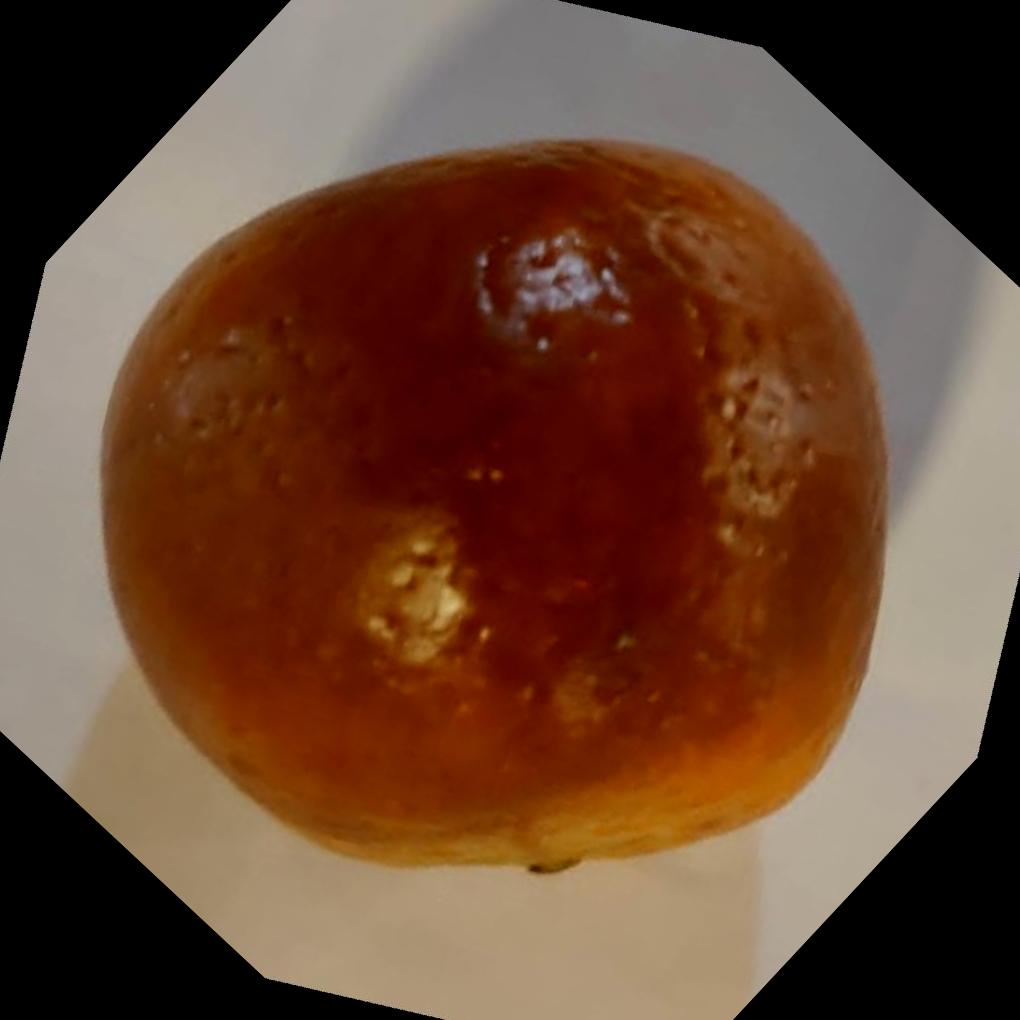FreshOrange: (93, 132, 888, 871)
